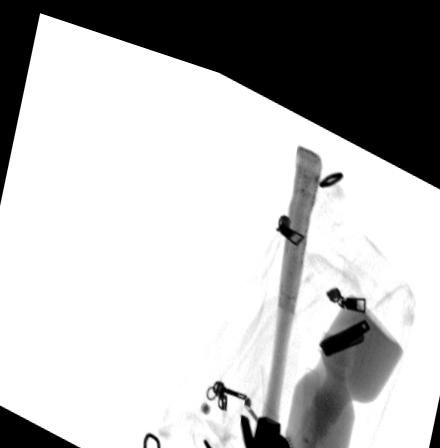Hammer: (238, 123, 322, 448)
